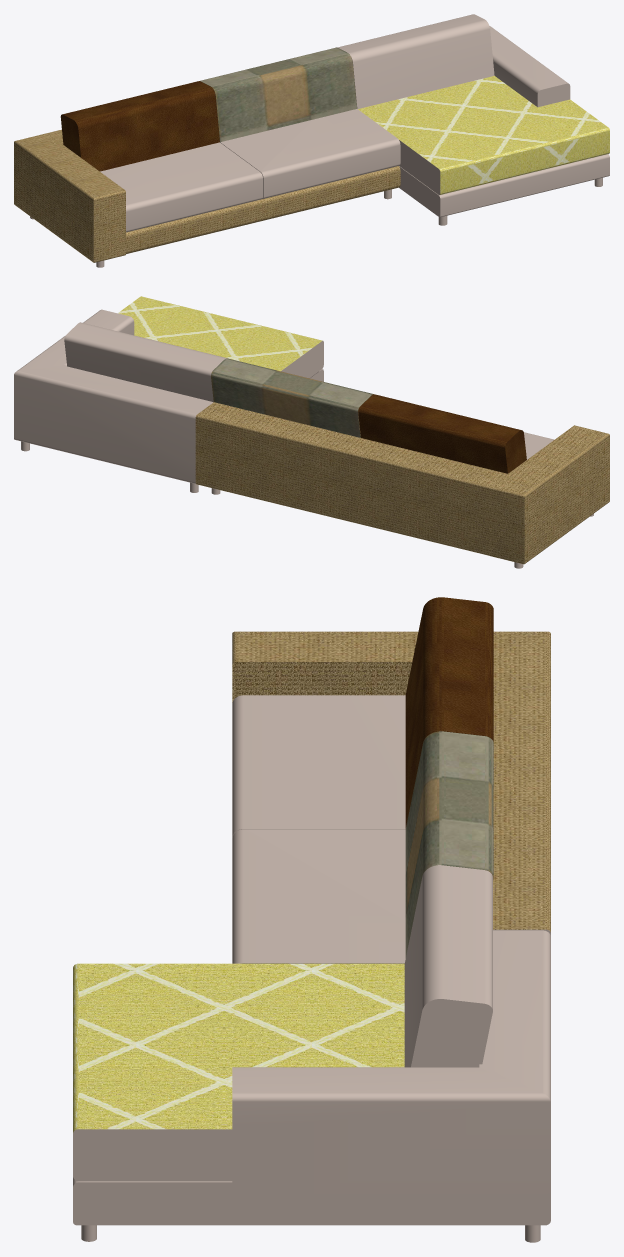
Rendered from 12sofa_w350_h76_d152_699KB.gltf.
3 views of the same model, one above another, from view 1: azimuth 30°, elevation 25°; view 2: azimuth 150°, elevation 25°; view 3: azimuth 270°, elevation 25° (orthographic). The views are drawn at different scales.
Visible parts, largest first — view 1: root; view 2: root; view 3: root.
Boxes of the visible parts, x1=… form: root: x1=14, y1=14, x2=609, y2=267; root: x1=14, y1=296, x2=609, y2=568; root: x1=73, y1=597, x2=550, y2=1242.
Size of the model in its own units: 3.5 by 0.7533 by 1.52.
Materials: 5 (4 with a texture image).
